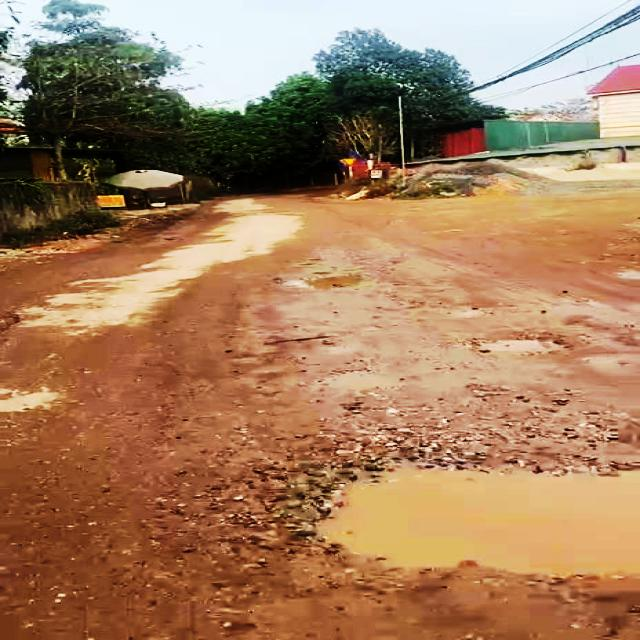pothole: (292, 448, 640, 595), (460, 336, 562, 355), (290, 271, 364, 291)
